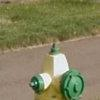Hydrant: (14, 24, 84, 100)
